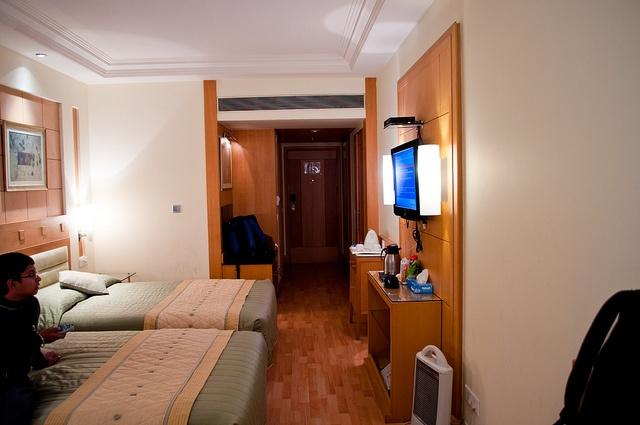AIO PC-Monitor-TV: (388, 135, 421, 223)
